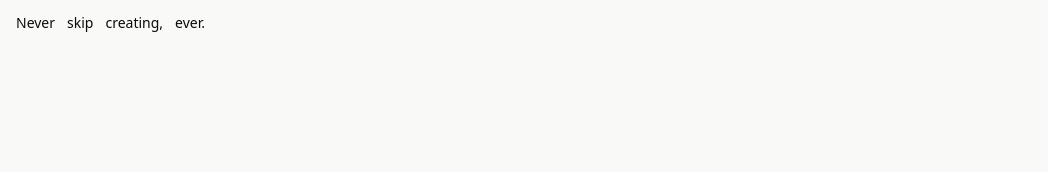
Test: a click on a word opens it, and Save sends the clean fix for that word
Click the button with aria-label "Fix the word creating,". click: [134, 23]
box: [102, 12, 167, 34]
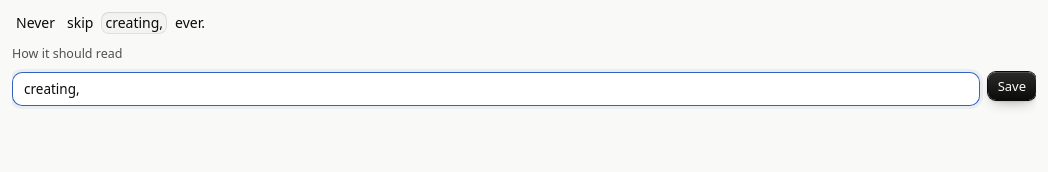
Expected: the field labelled "How it should read" holds "creating,"
Replace the text in the field labelled "How it should read" with "  creatine,  ". click: [496, 89]
box: [12, 72, 980, 106]
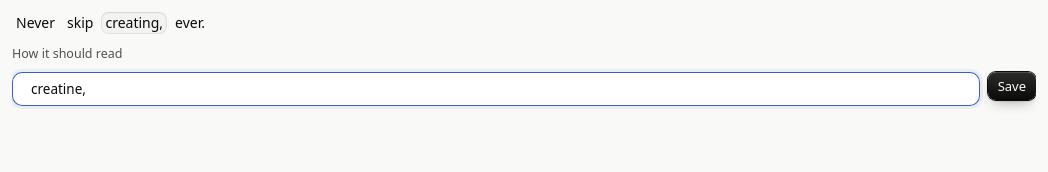
Click the button "Save". click: [1012, 86]
box: [988, 72, 1036, 100]
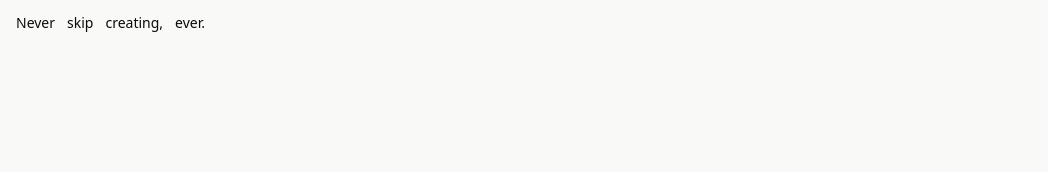
Expected: the label labelled "How it should read" is gone
